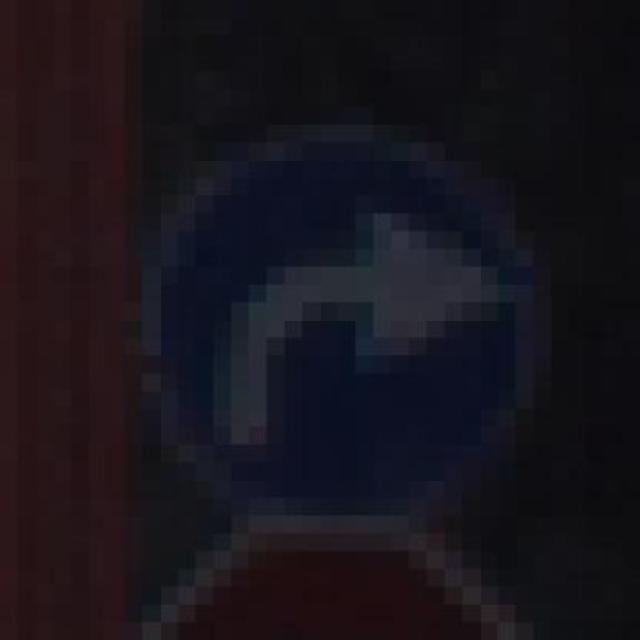Turn right ahead: (124, 107, 587, 516)
